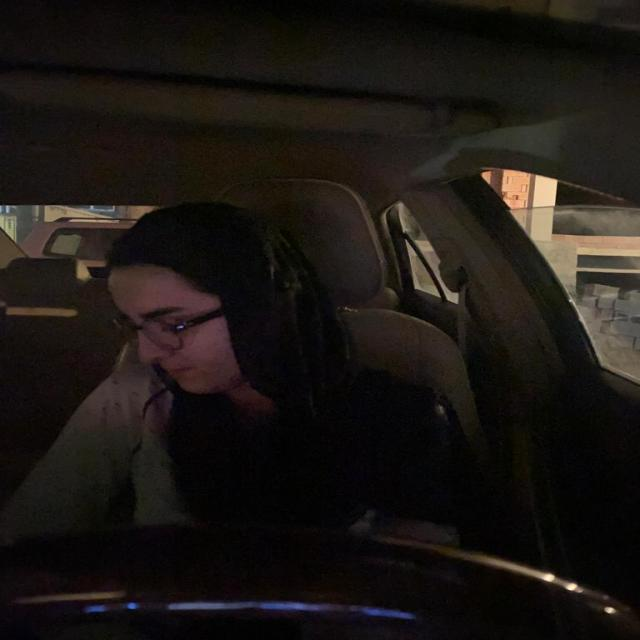drowsy: (88, 226, 310, 400)
